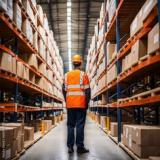Helmet: (72, 54, 83, 62)
Vest: (63, 68, 91, 112)
